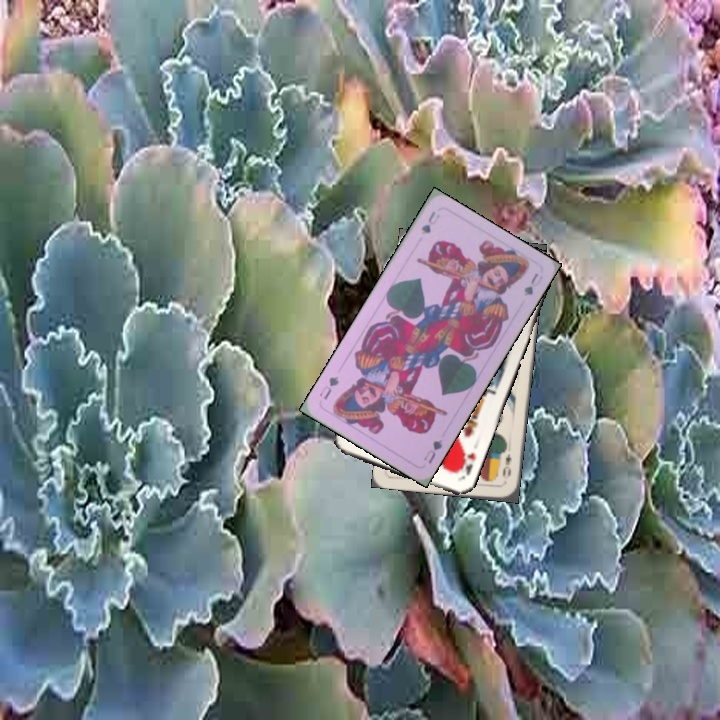EO: (498, 449, 514, 479)
GU: (419, 436, 445, 466), (417, 207, 443, 237)
HK: (453, 449, 478, 482)
